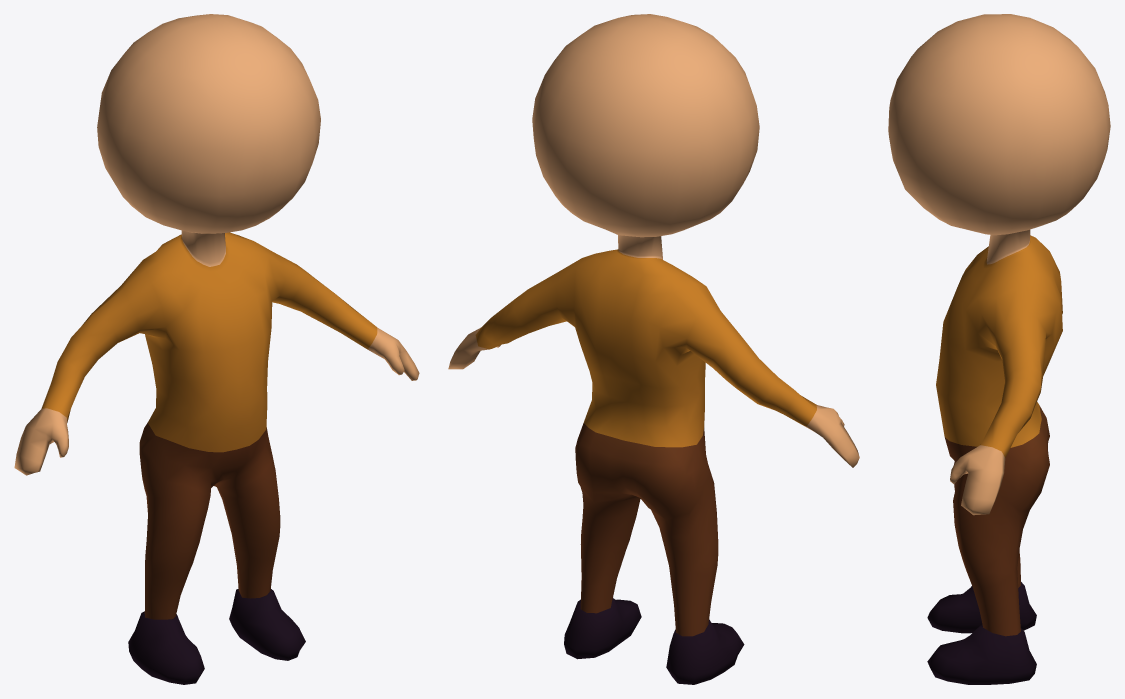
Rendered from Character.fbx.
3 renders of one model, left to right at view 1: azimuth 30°, elevation 25°; view 2: azimuth 150°, elevation 25°; view 3: azimuth 270°, elevation 25°, orthographic.
Visible parts, largest first — view 1: Character; view 2: Character; view 3: Character.
Boxes of the visible parts, bbox=[...] form: Character: bbox=[14, 14, 419, 684]; Character: bbox=[448, 14, 859, 684]; Character: bbox=[888, 14, 1110, 684].
Bounding box in the file's own units: 134 × 201 × 64.8.
Materials: 1 (1 with a texture image).
